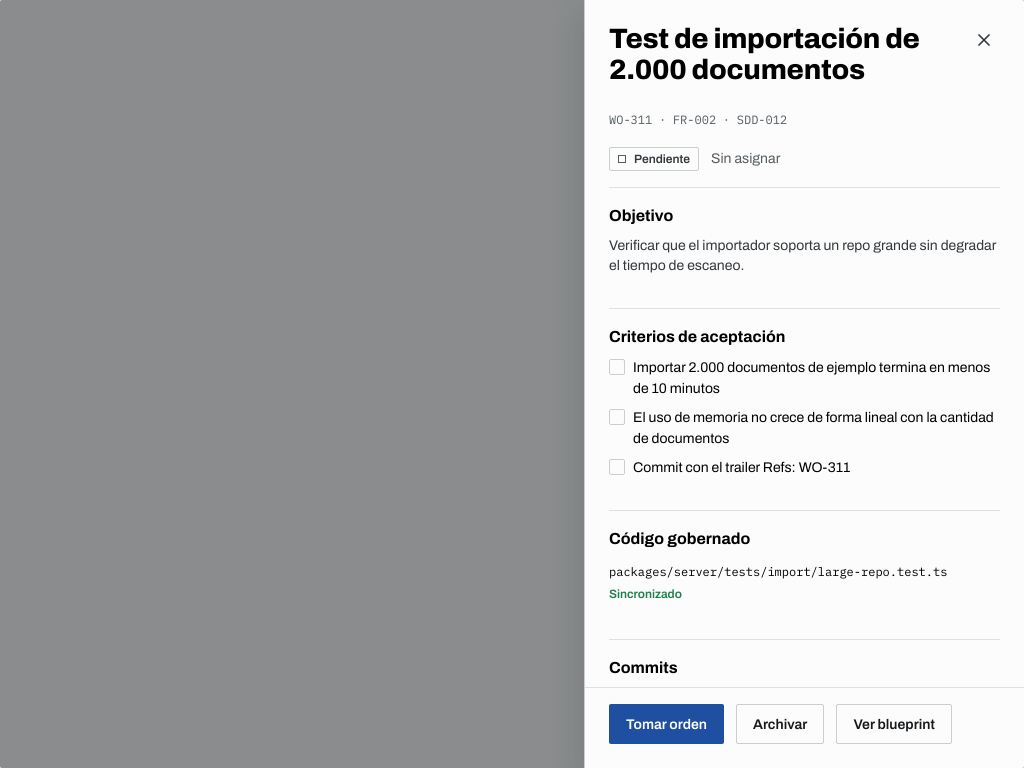
Test: OrderDrawer › pending: "Tomar orden" opens the modal and confirming assigns it to the session dev
Click the button "Tomar orden": (666, 724) [609, 704, 724, 744]
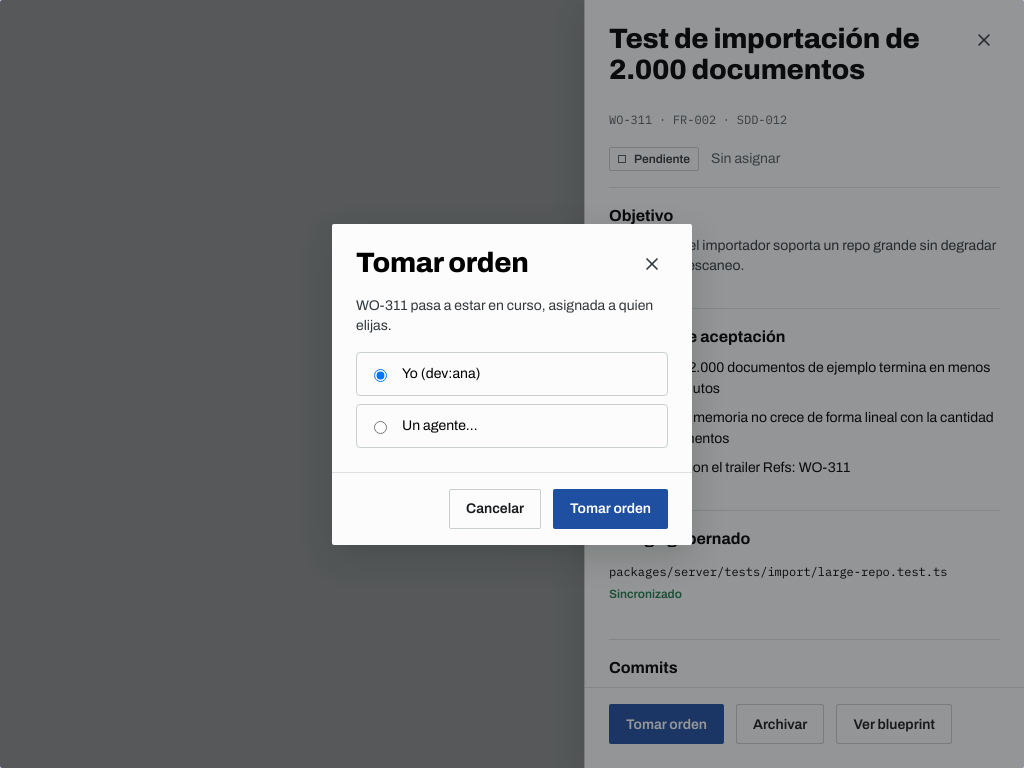
Now the text "WO-311 pasa a estar en curso, asignada a quien elijas." is shown, box [356, 298, 653, 332]
Now the radio button labelled "Yo (dev:ana)" is checked, box [374, 368, 387, 382]
Click the button "Tomar orden": (610, 508) [553, 488, 668, 528]
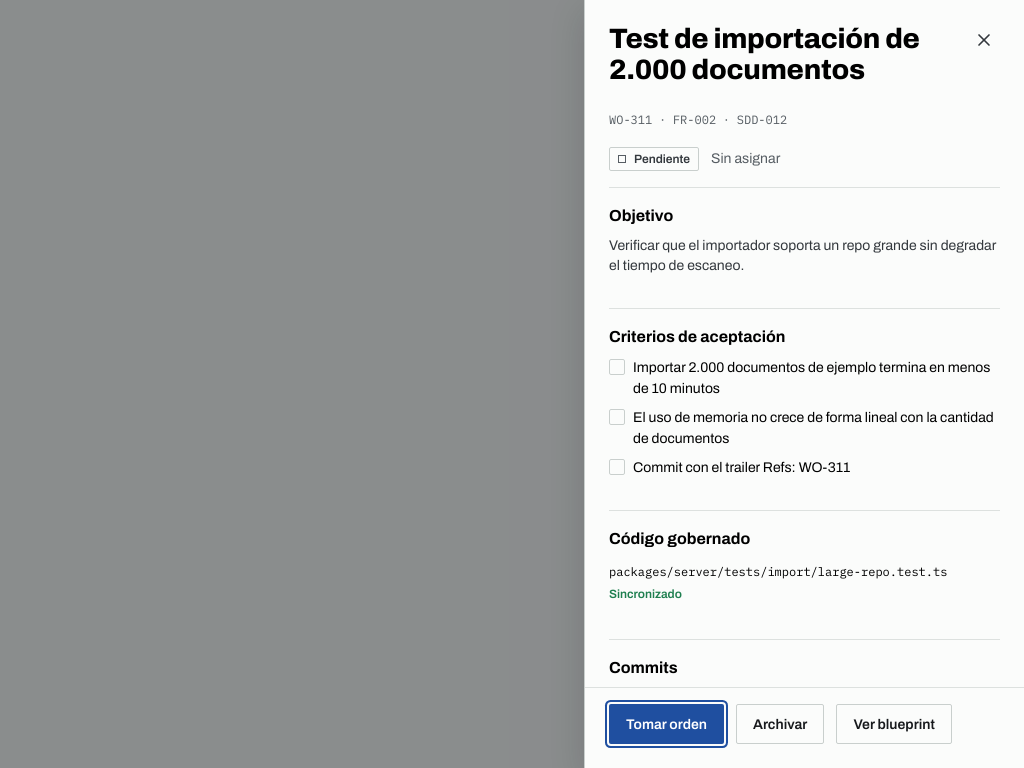
Now the message reads "Orden tomada", box [892, 712, 984, 728]
